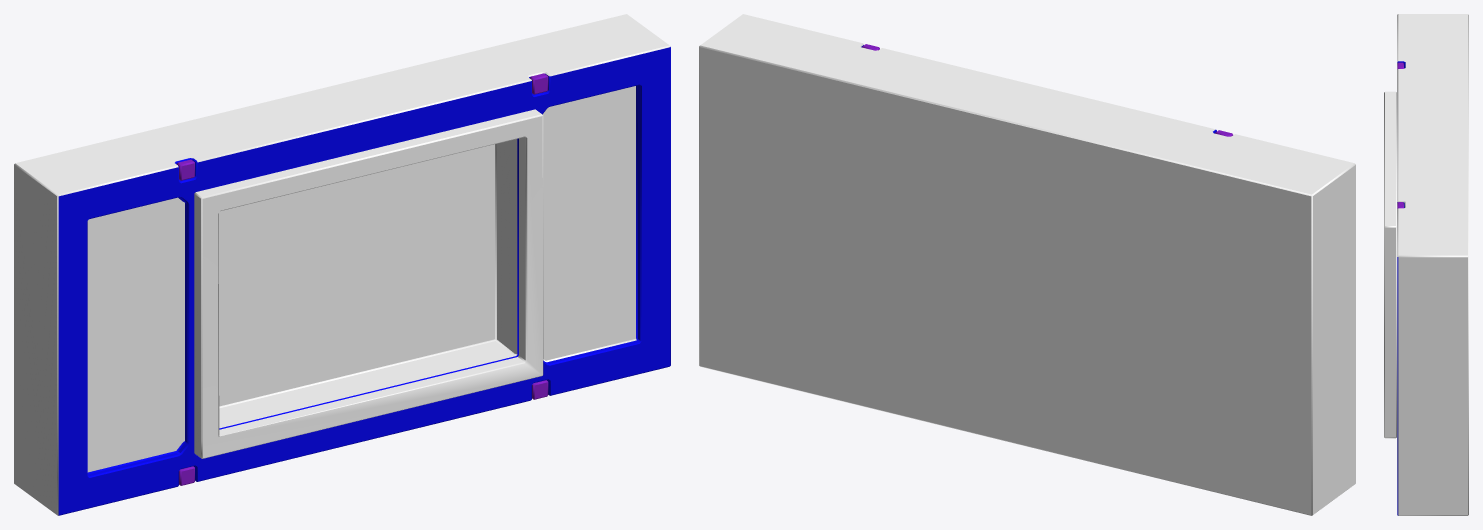
The model's file is Scifi2_WallE2_Prop_Large.fbx.
The picture shows the model from 3 angles, left to right: view 1: azimuth 30°, elevation 25°; view 2: azimuth 150°, elevation 25°; view 3: azimuth 270°, elevation 25°; orthographic projection. The views are drawn at different scales.
Parts seen in each view (by area): view 1: WallPanelE2_Prop_Large; view 2: WallPanelE2_Prop_Large; view 3: WallPanelE2_Prop_Large.
Part boxes in pixels (x1,y1,x2,y2): WallPanelE2_Prop_Large: (14,14,670,515); WallPanelE2_Prop_Large: (699,14,1355,515); WallPanelE2_Prop_Large: (1384,14,1468,515).
Size of the model in its own units: 800 by 400 by 118.
